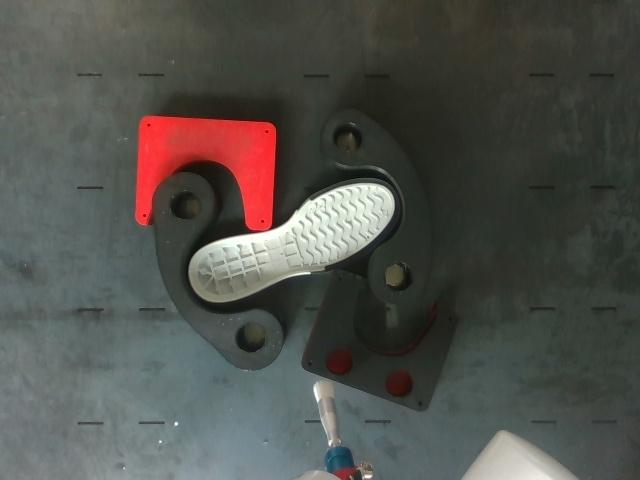shoes: (189, 178, 400, 302)
